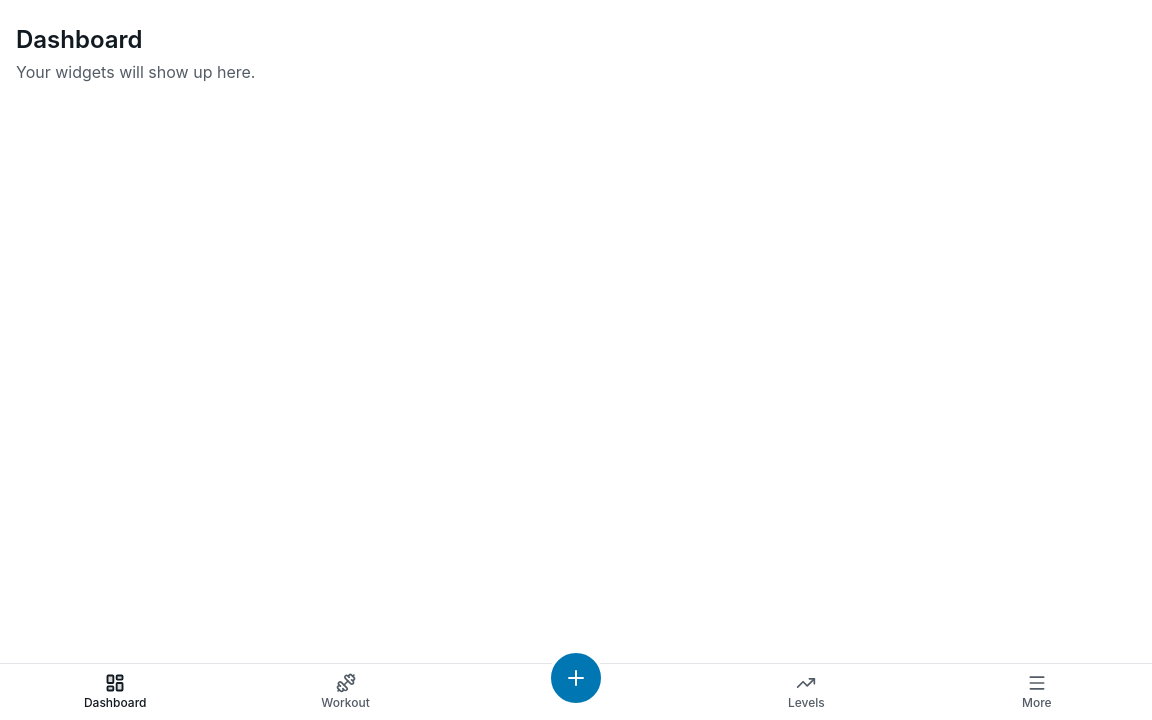
App shell › navigates to every route via the bottom nav and updates the active tab
Click the link "Dashboard": coordinates (115, 692) [84,673,146,710]
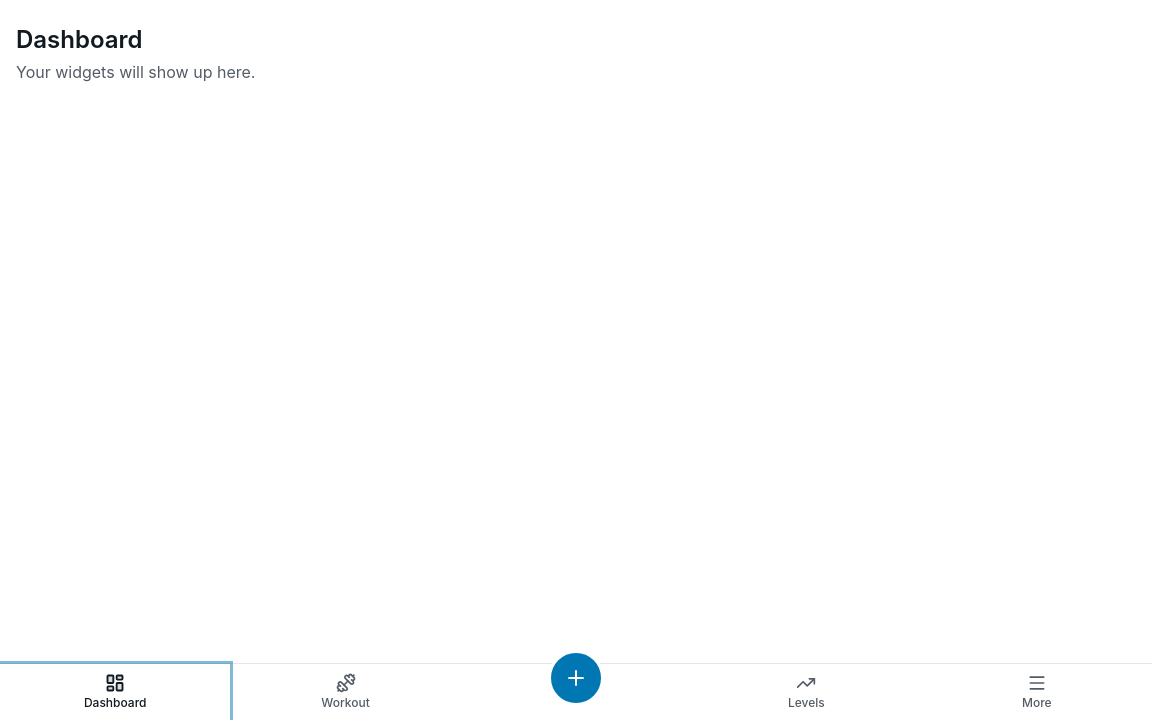
Expected: the heading "Dashboard" is shown, [16,25,143,54]
Click the link "Workout": coordinates (346, 692) [321,673,370,710]
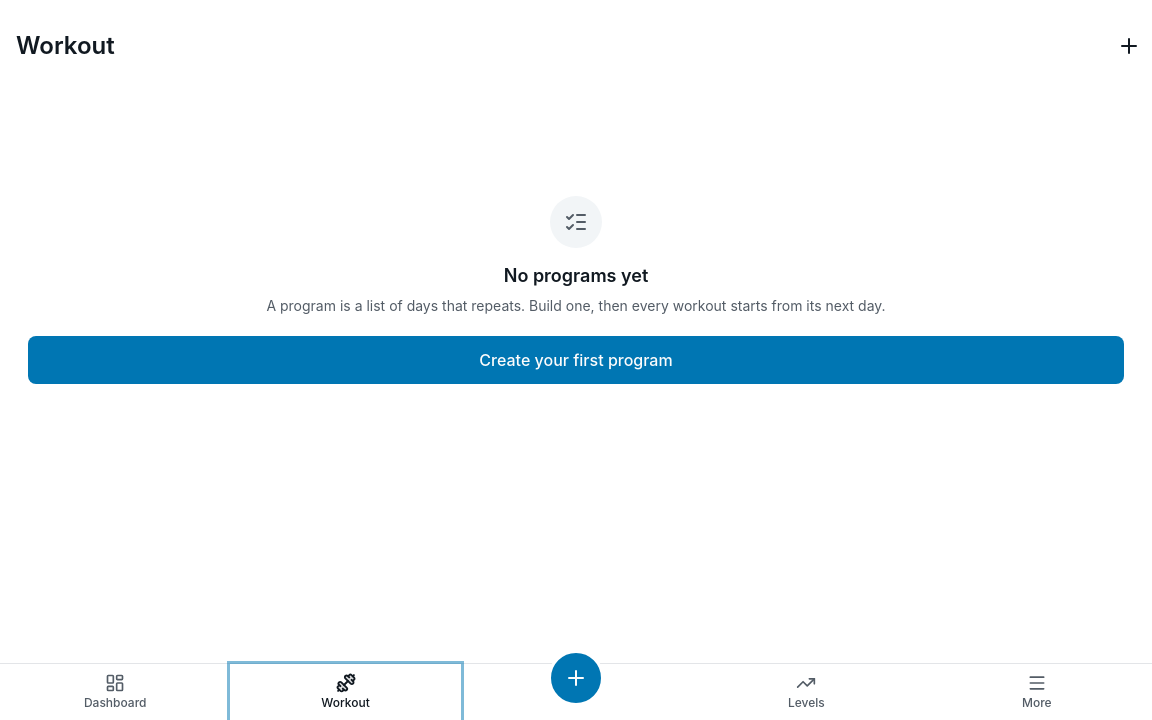
Now the heading "Workout" is shown, box [16,30,115,62]
Click the link "Levels": coordinates (806, 692) [788,673,825,710]
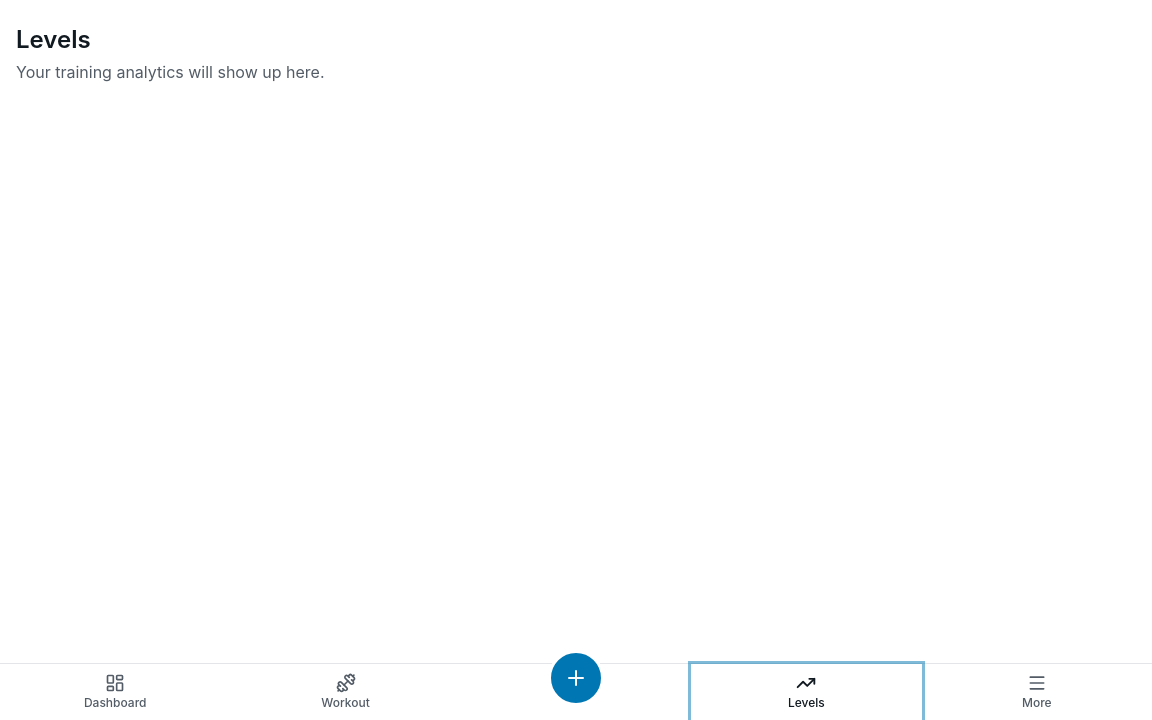
Now the heading "Levels" is shown, box [16,25,91,54]
Click the link "More": coordinates (1037, 692) [1022,673,1052,710]
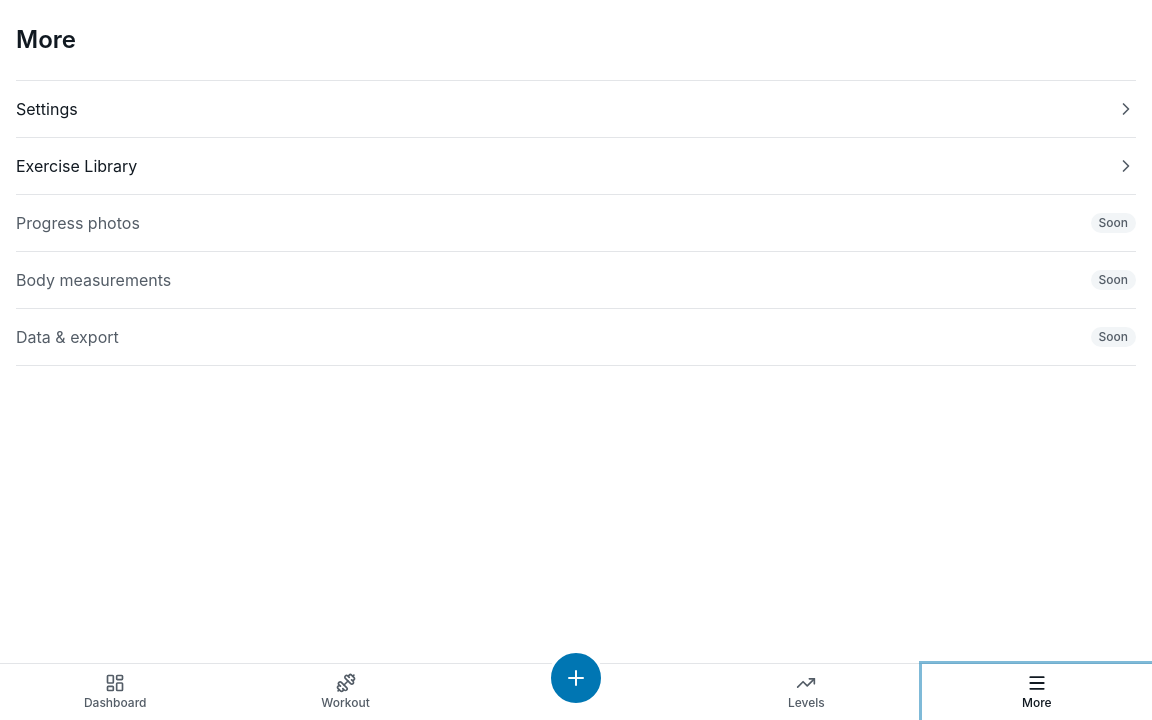
Now the heading "More" is shown, box [16,25,76,54]
